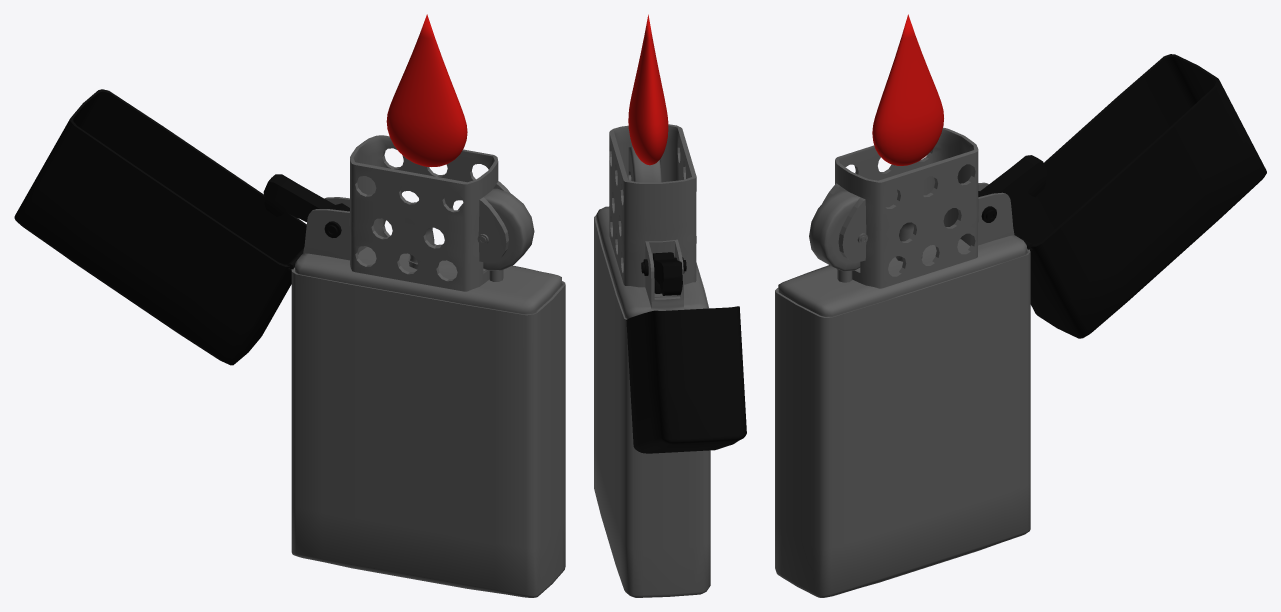
3 views of the same model, side by side, from view 1: azimuth 30°, elevation 25°; view 2: azimuth 150°, elevation 25°; view 3: azimuth 270°, elevation 25° (orthographic). The views are drawn at different scales.
Parts seen in each view (by area): view 1: 313, fire; view 2: 313, fire; view 3: 313, fire.
Boxes of the visible parts, x1,y1,x2,y2 form: 313: (14, 89, 565, 597); fire: (386, 14, 467, 166); 313: (594, 124, 746, 597); fire: (628, 14, 668, 165); 313: (775, 54, 1266, 597); fire: (872, 14, 943, 165).
Size of the model in its own units: 17.69 by 21.73 by 26.46.
